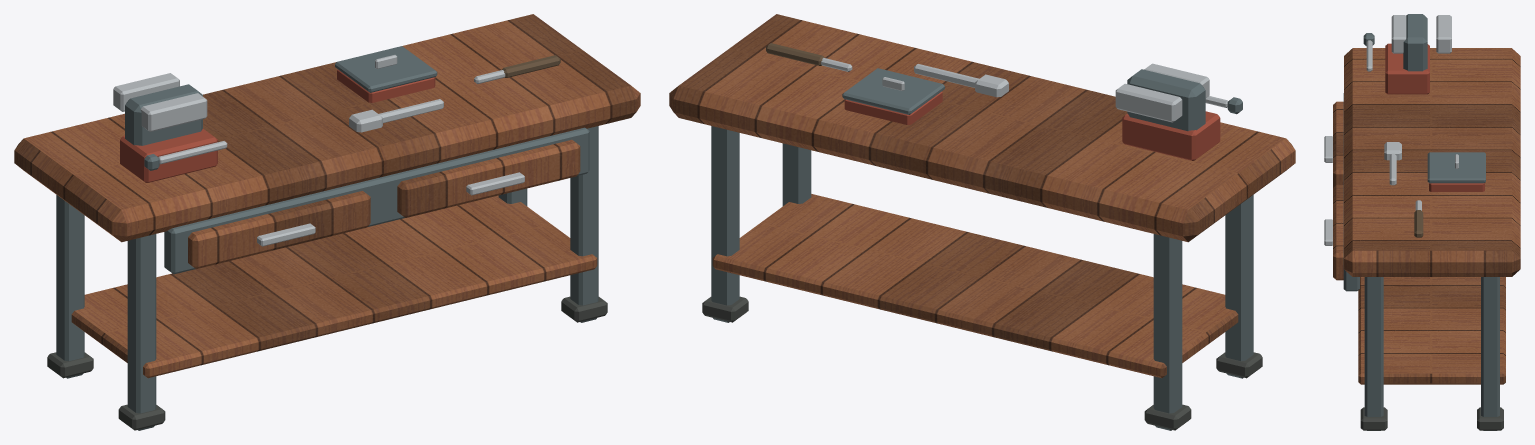
Rendered from workbench.glb.
3 renders of one model, left to right at view 1: azimuth 30°, elevation 25°; view 2: azimuth 150°, elevation 25°; view 3: azimuth 270°, elevation 25°, orthographic. The views are drawn at different scales.
Parts seen in each view (by area): view 1: workbench; view 2: workbench; view 3: workbench.
Boxes of the visible parts, <box> form: workbench: <box>14,14,640,430</box>; workbench: <box>669,14,1295,430</box>; workbench: <box>1324,14,1520,430</box>.
Size of the model in its own units: 2.22 by 1.21 by 0.8775.
6 materials, 1 textured.
